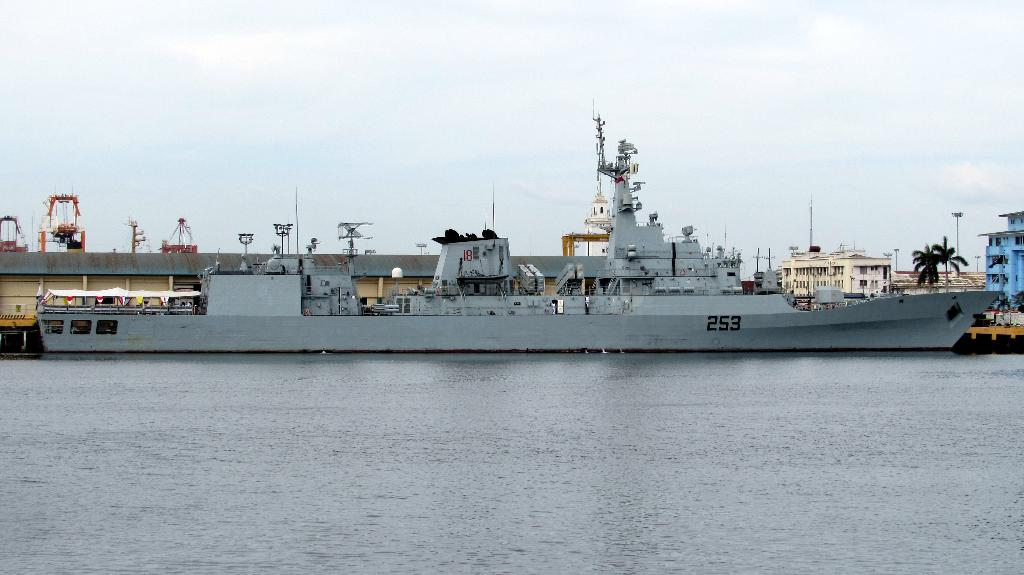Warship: (36, 106, 1008, 356)
